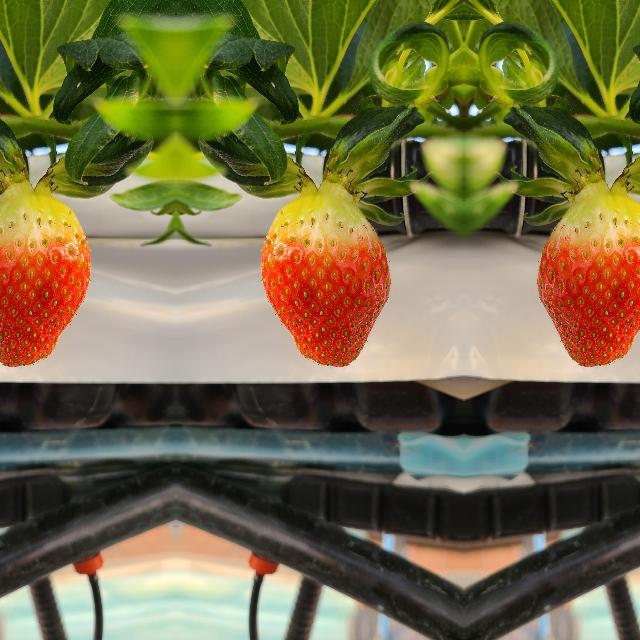Health_100: (260, 195, 390, 368), (535, 195, 640, 368), (0, 195, 90, 368)
